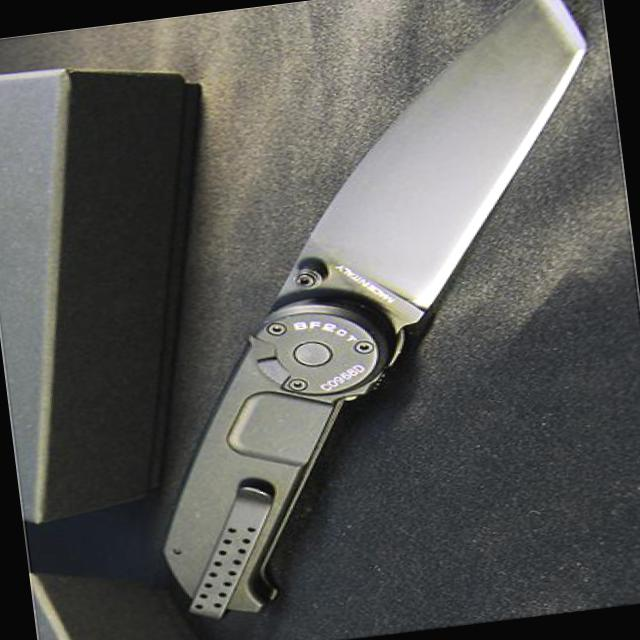knife: (236, 0, 639, 355)
